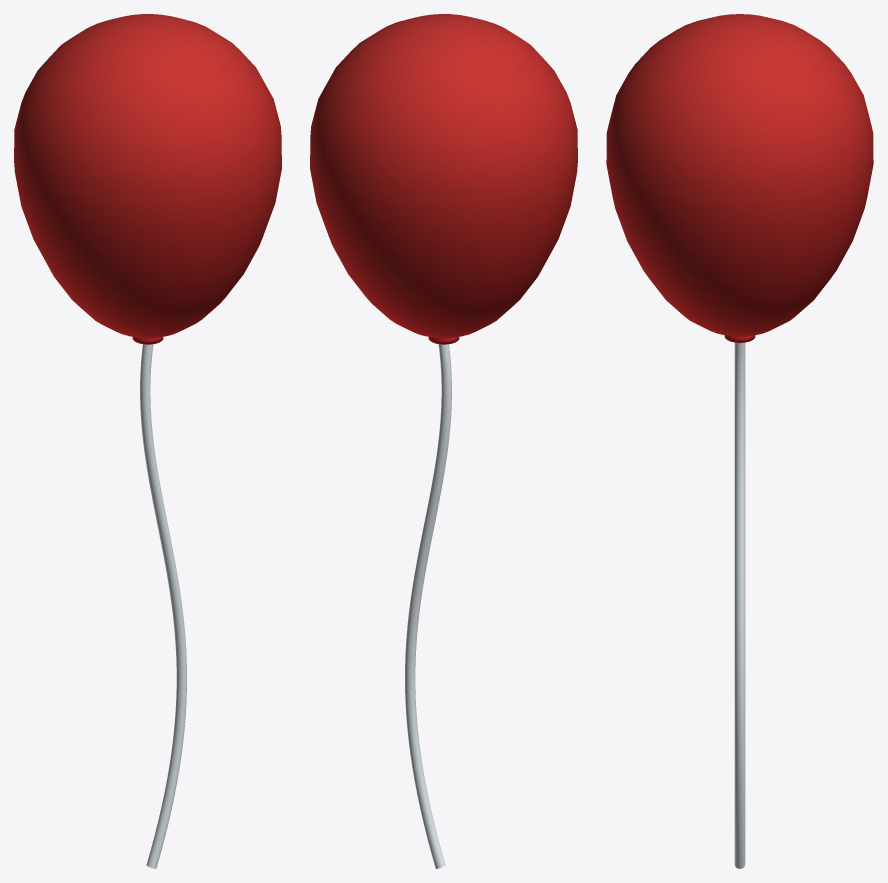
File: Balon Merah.fbx
3 views of the same model, side by side, from view 1: azimuth 30°, elevation 25°; view 2: azimuth 150°, elevation 25°; view 3: azimuth 270°, elevation 25° (orthographic).
Parts seen in each view (by area): view 1: Sphere, NurbsPath; view 2: Sphere, NurbsPath; view 3: Sphere, NurbsPath.
Boxes of the visible parts, x1,y1,x2,y2 form: Sphere: (14,14,281,344); NurbsPath: (140,344,186,868); Sphere: (310,14,577,344); NurbsPath: (405,344,451,868); Sphere: (606,14,873,342); NurbsPath: (734,342,745,868).
Size of the model in its own units: 62.72 by 217 by 62.72.
